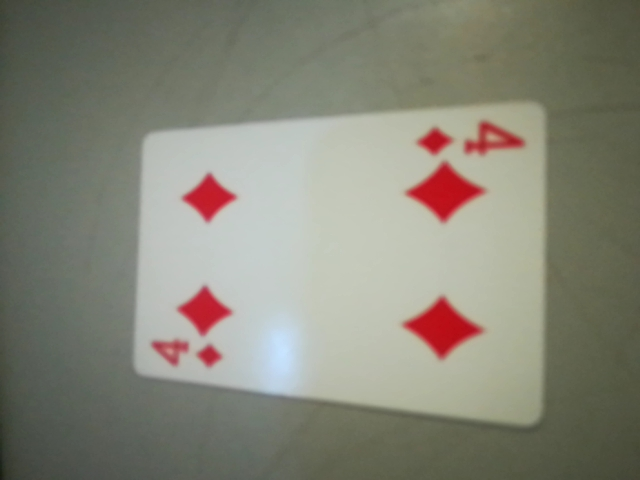fk 4: (402, 118, 525, 176)
